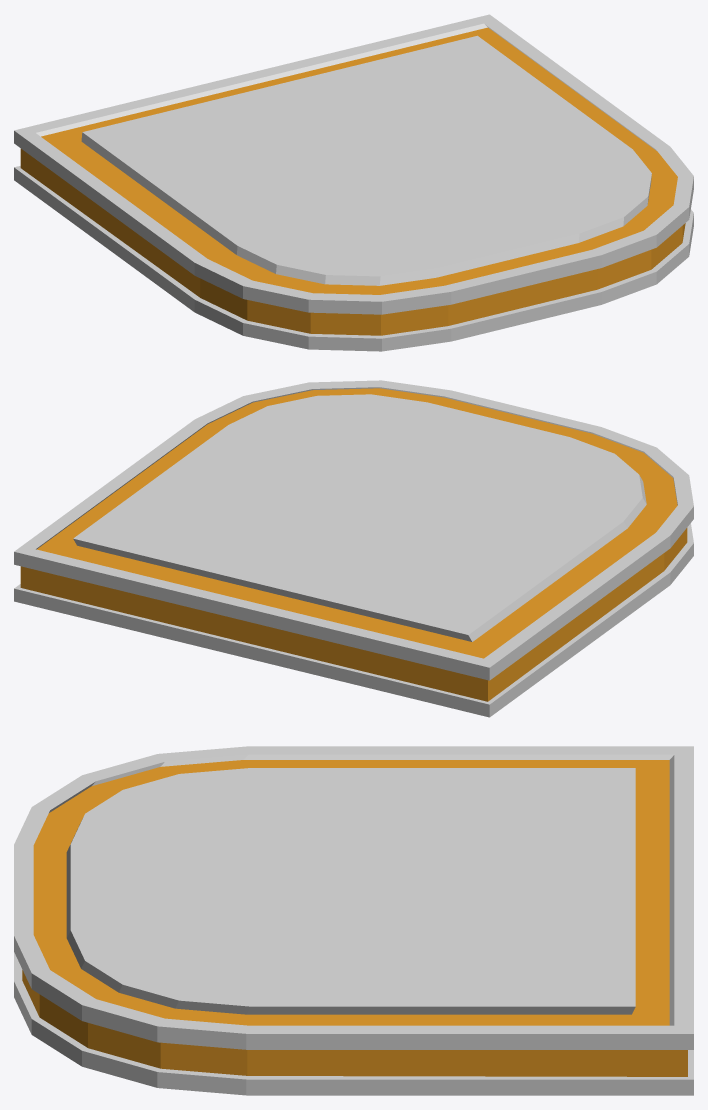
Rendered from Buildings-platform1.fbx.
The picture shows the model from 3 angles, top to bottom: view 1: azimuth 30°, elevation 25°; view 2: azimuth 150°, elevation 25°; view 3: azimuth 270°, elevation 25°; orthographic projection. The views are drawn at different scales.
Parts seen in each view (by area): view 1: Cube; view 2: Cube; view 3: Cube.
Part boxes in pixels (left/top/right/bottom): Cube: left=14, top=14, right=693, bottom=351; Cube: left=14, top=380, right=693, bottom=717; Cube: left=14, top=746, right=693, bottom=1095.
Size of the model in its own units: 20 by 2.18 by 20.
